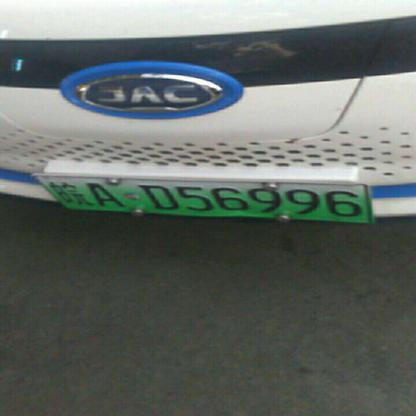lp: (67, 174, 371, 223)
